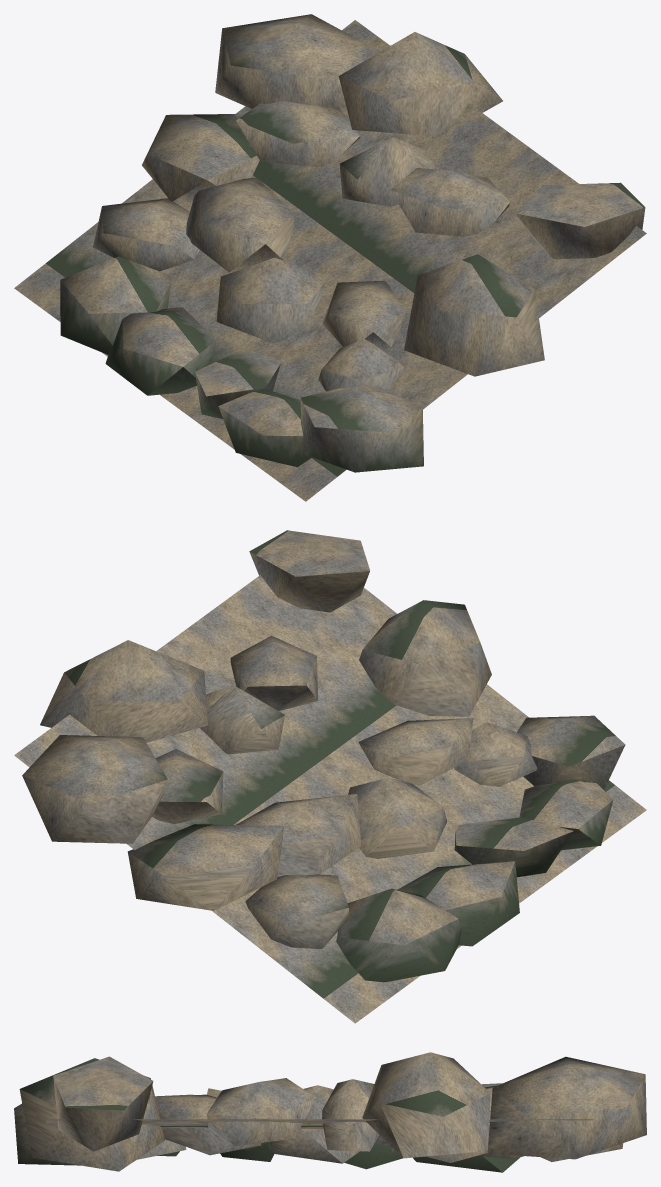
Rendered from SM_Molo_Scogliera_C_LOD1.fbx.
3 views of the same model, one above another, from view 1: azimuth 30°, elevation 25°; view 2: azimuth 150°, elevation 25°; view 3: azimuth 270°, elevation 25° (orthographic). The views are drawn at different scales.
Visible parts, largest first — view 1: SM_Molo_Scogliera_C_LOD1; view 2: SM_Molo_Scogliera_C_LOD1; view 3: SM_Molo_Scogliera_C_LOD1.
Boxes of the visible parts, x1,y1,x2,y2 form: SM_Molo_Scogliera_C_LOD1: [14, 14, 646, 501]; SM_Molo_Scogliera_C_LOD1: [14, 530, 646, 1023]; SM_Molo_Scogliera_C_LOD1: [14, 1052, 646, 1172].
Size of the model in its own units: 649 by 926 by 368.
Materials: 1 (1 with a texture image).
